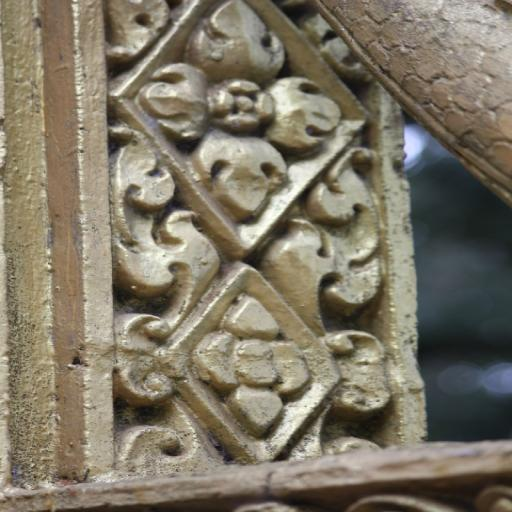hoa: (188, 309, 310, 415)
la: (136, 14, 350, 209)
lua: (91, 161, 209, 298), (286, 174, 394, 308)
